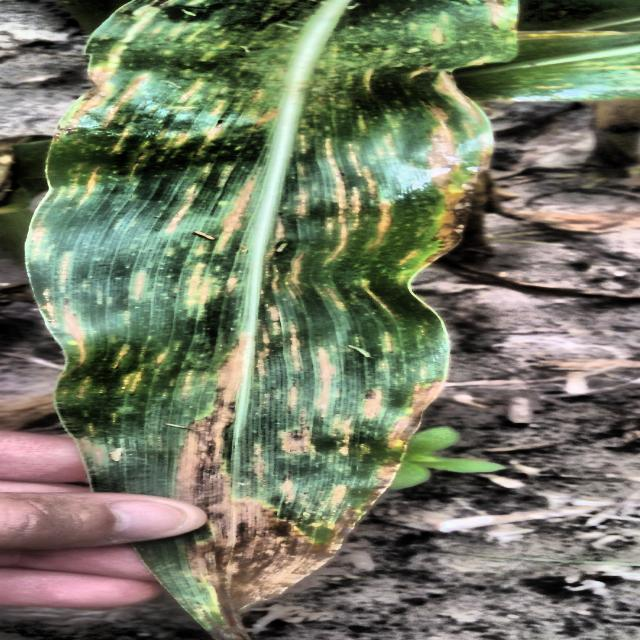blight: (80, 8, 493, 606)
